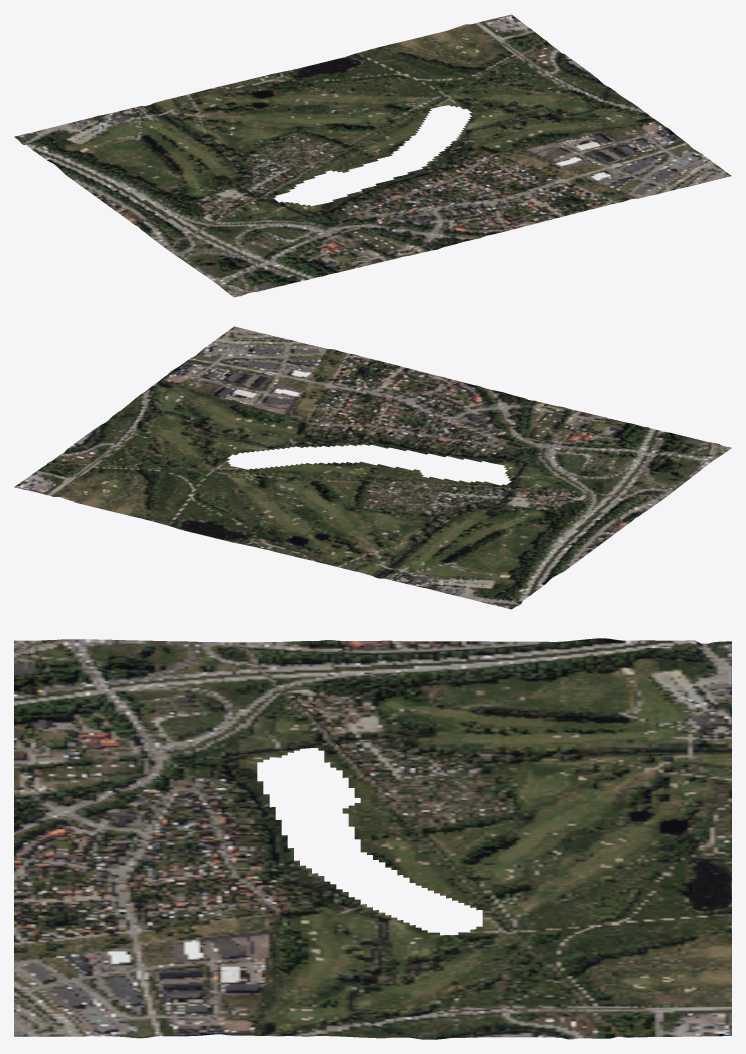
The model's file is yellow_5_wide.glb.
3 renders of one model, top to bottom at view 1: azimuth 30°, elevation 25°; view 2: azimuth 150°, elevation 25°; view 3: azimuth 270°, elevation 25°, orthographic. The views are drawn at different scales.
Visible parts, largest first — view 1: wide; view 2: wide; view 3: wide.
Boxes of the visible parts, x1,y1,x2,y2 form: wide: (14, 14, 731, 297); wide: (14, 326, 731, 609); wide: (14, 638, 731, 1039).
Bounding box in the file's own units: 1232 × 10.1 × 944.
1 material, 1 textured.
